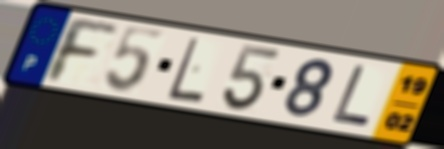5: (102, 23, 170, 96), (219, 41, 284, 114)
8: (281, 57, 336, 120)
F: (43, 14, 121, 86)
L: (328, 63, 373, 131), (165, 35, 208, 105)
